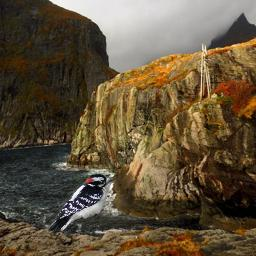Woodpecker: (46, 174, 116, 233)
